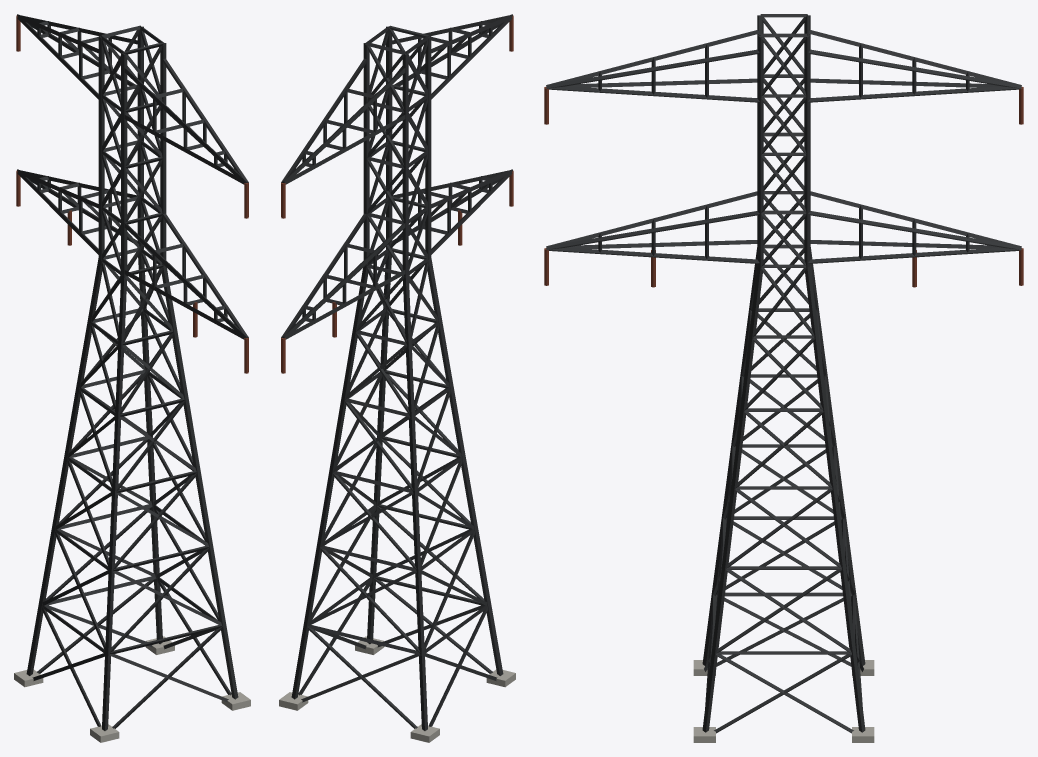
The model's file is vedeni_stozar_mapa.glb.
The picture shows the model from 3 angles, left to right: view 1: azimuth 30°, elevation 25°; view 2: azimuth 150°, elevation 25°; view 3: azimuth 270°, elevation 25°; orthographic projection. The views are drawn at different scales.
Parts seen in each view (by area): view 1: vedeni_stozar_mapa; view 2: vedeni_stozar_mapa; view 3: vedeni_stozar_mapa.
Boxes of the visible parts, left/top/right/bottom form: vedeni_stozar_mapa: left=14, top=14, right=250, bottom=742; vedeni_stozar_mapa: left=279, top=14, right=515, bottom=742; vedeni_stozar_mapa: left=544, top=14, right=1023, bottom=742.
Size of the model in its own units: 7.3 by 30.47 by 19.39.
Materials: 1 (1 with a texture image).
